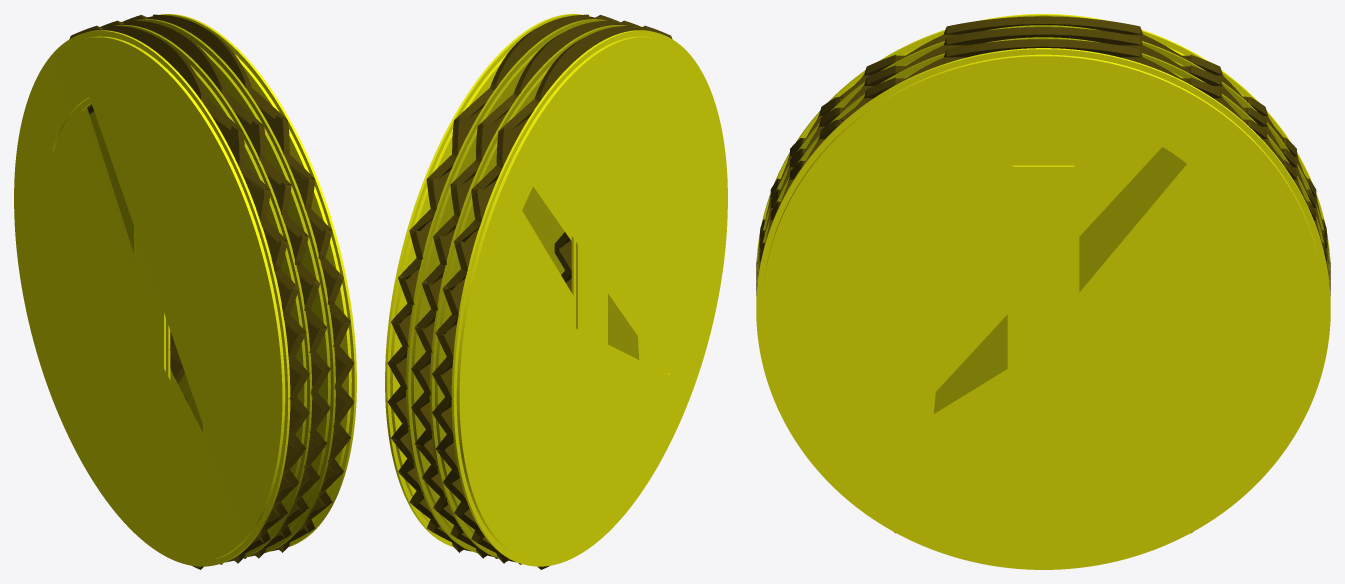
Rendered from CardboardCoin.fbx.
The picture shows the model from 3 angles, left to right: view 1: azimuth 30°, elevation 25°; view 2: azimuth 150°, elevation 25°; view 3: azimuth 270°, elevation 25°; orthographic projection. The views are drawn at different scales.
Visible parts, largest first — view 1: Coin; view 2: Coin; view 3: Coin.
Boxes of the visible parts, left/top/right/bottom form: Coin: left=14, top=14, right=356, bottom=569; Coin: left=385, top=14, right=727, bottom=569; Coin: left=756, top=14, right=1330, bottom=569.
Bounding box in the file's own units: 31.38 × 204 × 200.
